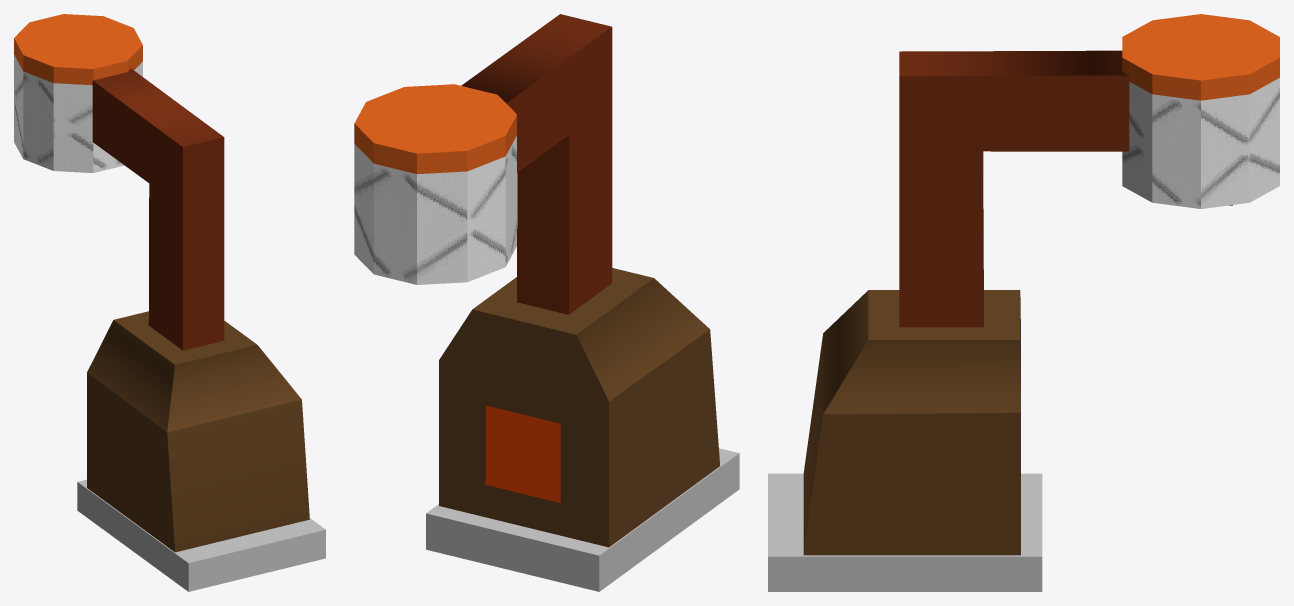
The picture shows the model from 3 angles, left to right: view 1: azimuth 30°, elevation 25°; view 2: azimuth 150°, elevation 25°; view 3: azimuth 270°, elevation 25°; orthographic projection. The views are drawn at different scales.
Visible parts, largest first — view 1: di2; view 2: di2; view 3: di2.
Boxes of the visible parts, x1,y1,x2,y2 form: di2: [14, 14, 325, 591]; di2: [354, 14, 739, 591]; di2: [768, 14, 1279, 591].
Size of the model in its own units: 177 by 499 by 461.
